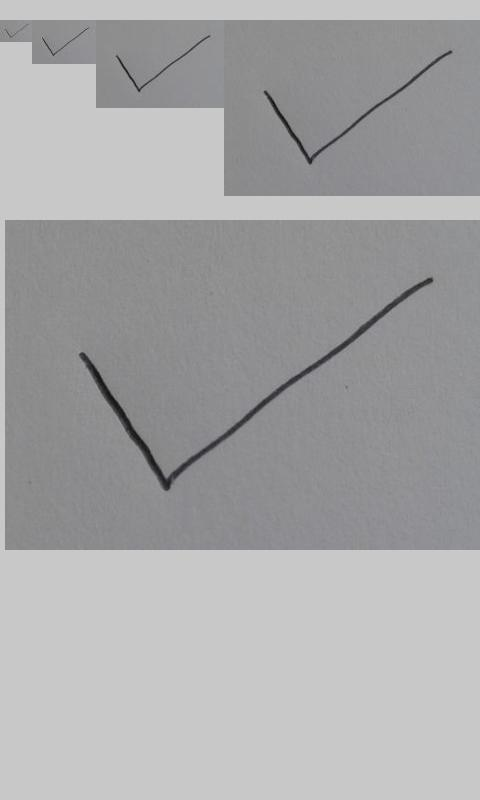check_box: (80, 276, 435, 491), (263, 50, 453, 165), (116, 35, 210, 92), (41, 27, 88, 56), (5, 24, 28, 38)
